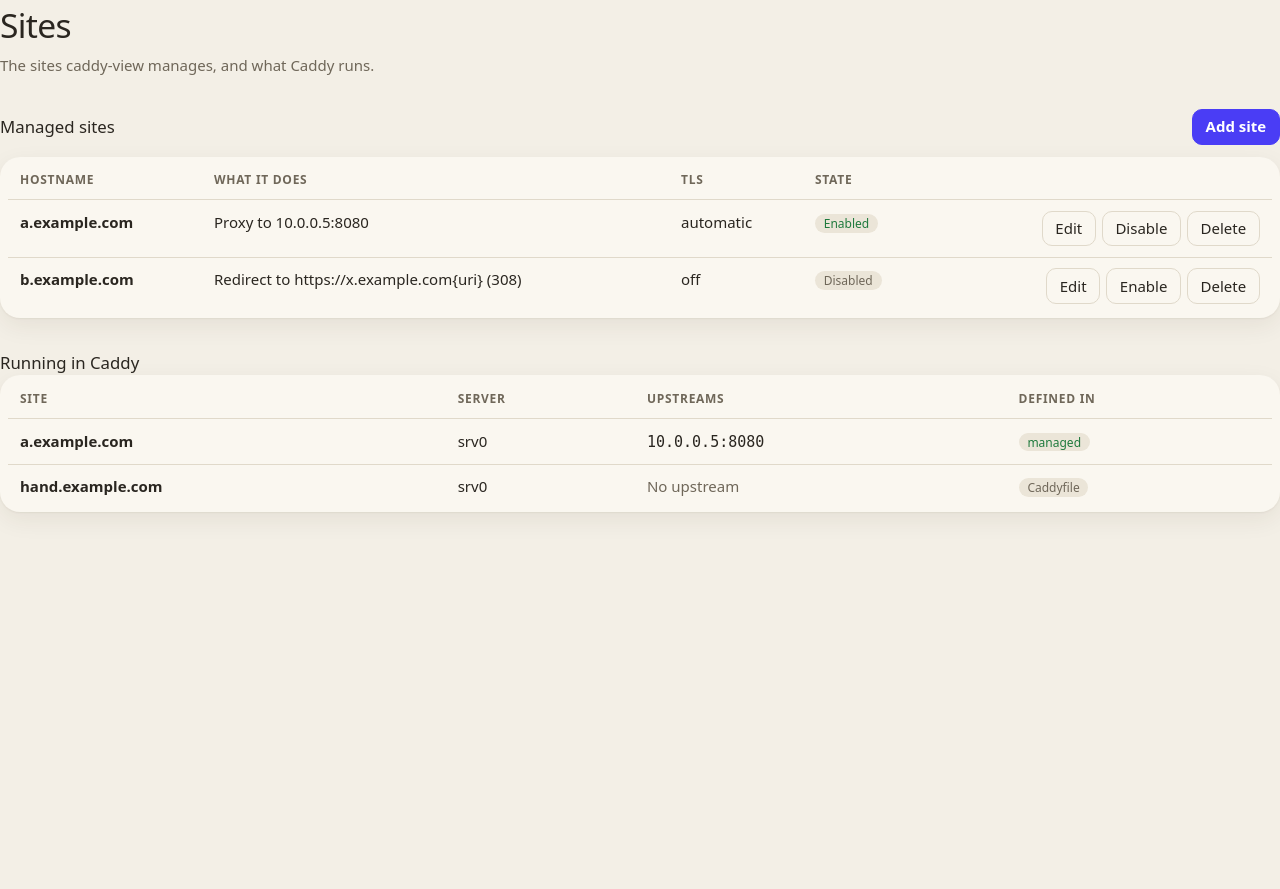
Scenario: SitesView adding and changing sites › shows one wizard at a time
Expected: the heading "Sites" is shown, [0,2,71,48]
Expected: the text "a.example.com" next to "Proxy to 10.0.0.5:8080" is shown, [20,212,133,232]
Step 1. Click the button "Add site" → (1236, 127), box [1192,109,1279,145]
(page scrolled)
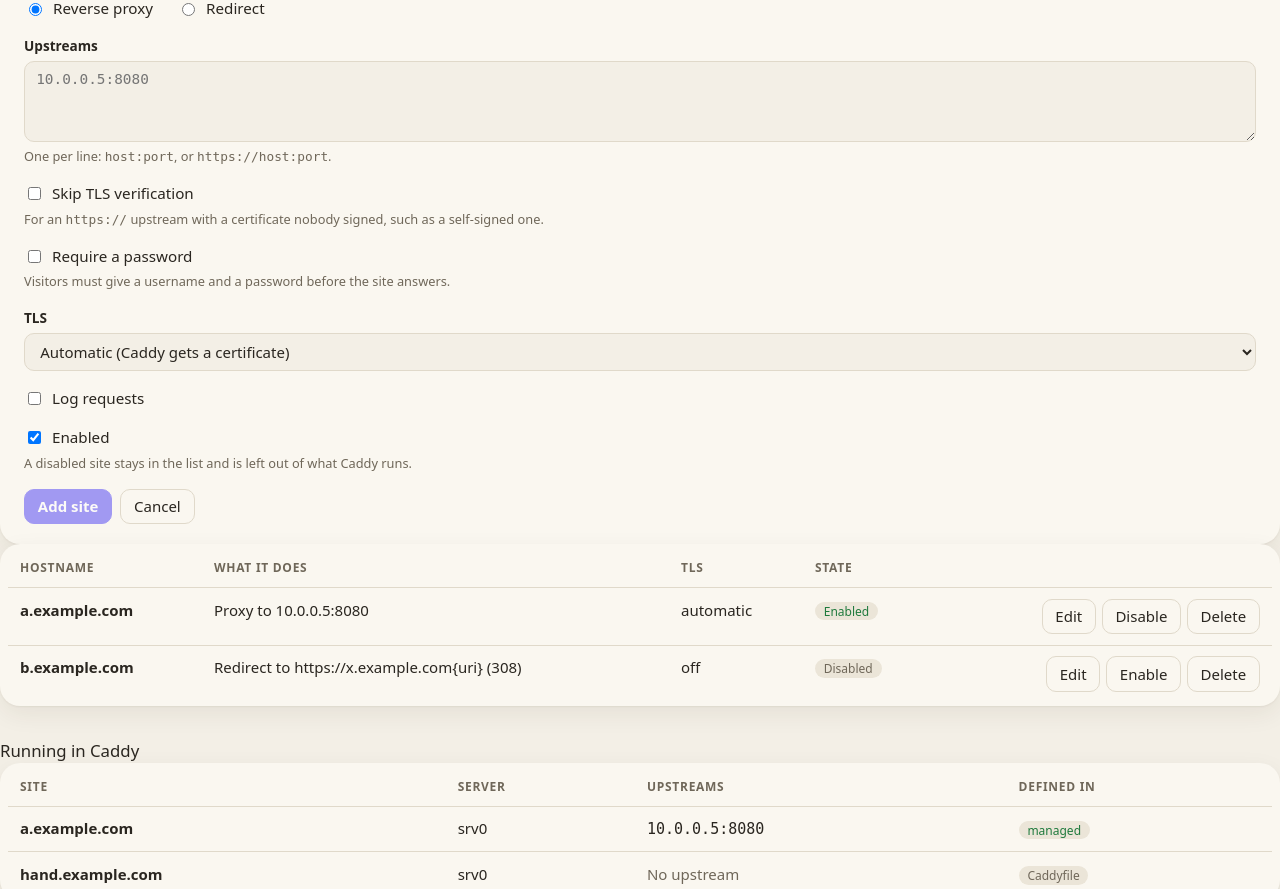
Step 2. Click the button with aria-label "Edit b.example.com" → (1073, 674), box [1046,656,1100,692]
(page scrolled)
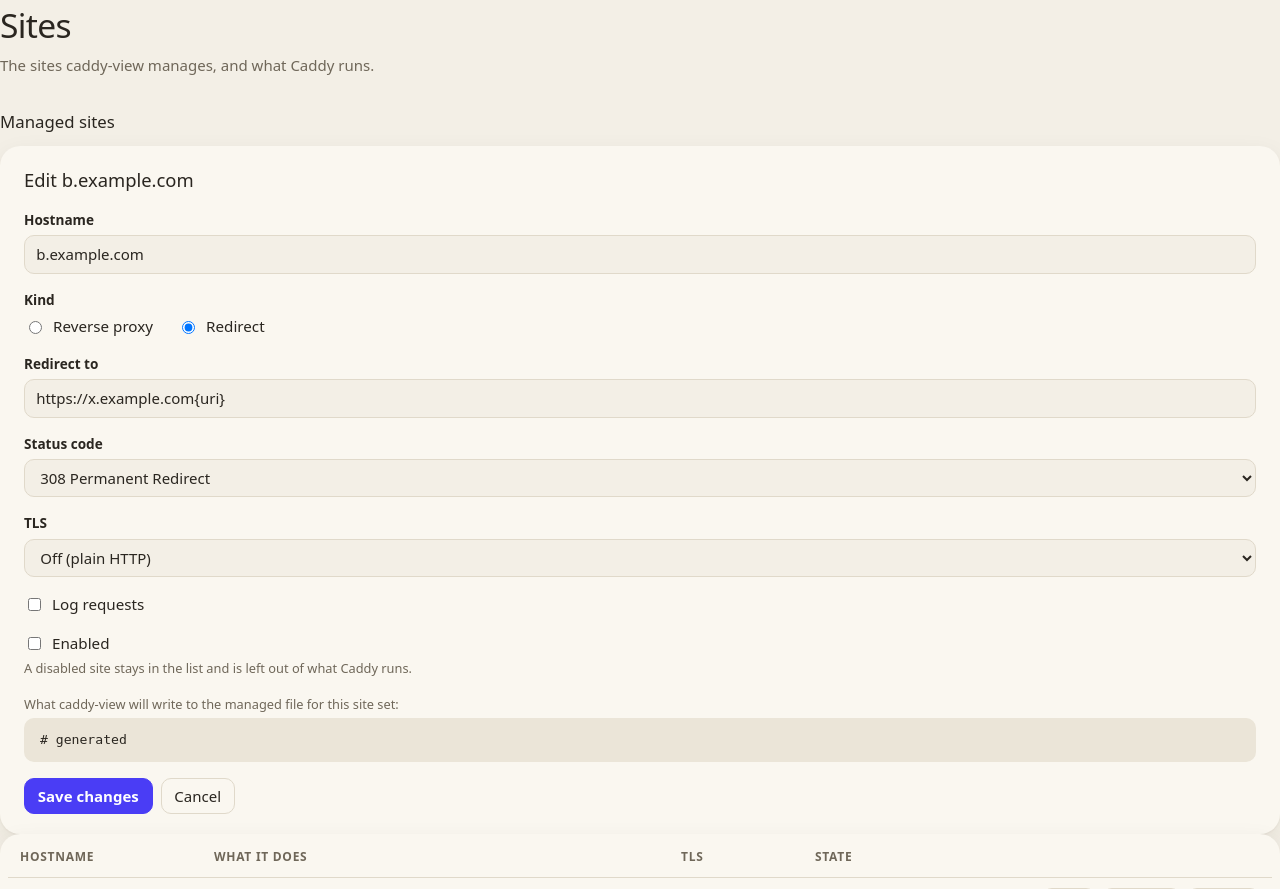
Result: the number of forms is 1
Result: the heading "Edit b.example.com" is shown at [24,167,194,192]
